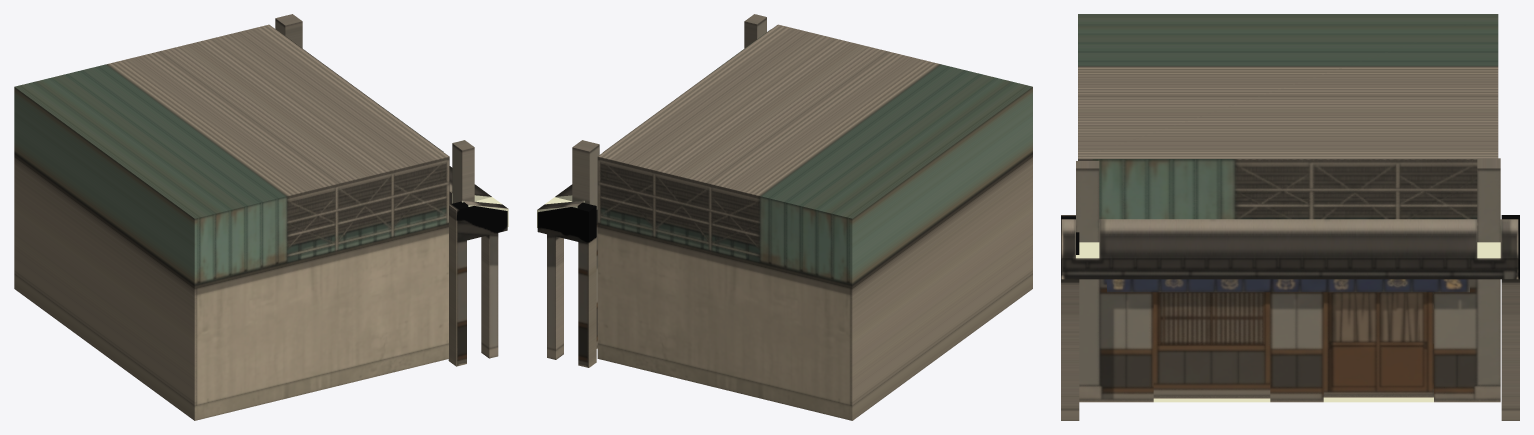
3 views of the same model, side by side, from view 1: azimuth 30°, elevation 25°; view 2: azimuth 150°, elevation 25°; view 3: azimuth 270°, elevation 25° (orthographic). The views are drawn at different scales.
Visible parts, largest first — view 1: Gemini_Generated_Image_f2cz8ef2cz8ef2cz.005, Gemini_Generated_Image_f2cz8ef2cz8ef2cz.008, Gemini_Generated_Image_f2cz8ef2cz8ef2cz.003, Gemini_Generated_Image_f2cz8ef2cz8ef2cz.001, Gemini_Generated_Image_f2cz8ef2cz8ef2cz.004; view 2: Gemini_Generated_Image_f2cz8ef2cz8ef2cz.005, Gemini_Generated_Image_f2cz8ef2cz8ef2cz.006, Gemini_Generated_Image_f2cz8ef2cz8ef2cz.004, Gemini_Generated_Image_f2cz8ef2cz8ef2cz.001, Gemini_Generated_Image_f2cz8ef2cz8ef2cz.003; view 3: Gemini_Generated_Image_f2cz8ef2cz8ef2cz.005, Gemini_Generated_Image_f2cz8ef2cz8ef2cz.001, Gemini_Generated_Image_f2cz8ef2cz8ef2cz.007, Gemini_Generated_Image_f2cz8ef2cz8ef2cz.009, Gemini_Generated_Image_f2cz8ef2cz8ef2cz.010, Gemini_Generated_Image_f2cz8ef2cz8ef2cz.008, Gemini_Generated_Image_f2cz8ef2cz8ef2cz.006, Gemini_Generated_Image_f2cz8ef2cz8ef2cz.004, Gemini_Generated_Image_f2cz8ef2cz8ef2cz.003.
Part boxes in pixels (bbox=[...]): Gemini_Generated_Image_f2cz8ef2cz8ef2cz.005: bbox=[14, 24, 449, 420]; Gemini_Generated_Image_f2cz8ef2cz8ef2cz.008: bbox=[448, 201, 507, 366]; Gemini_Generated_Image_f2cz8ef2cz8ef2cz.003: bbox=[452, 140, 474, 203]; Gemini_Generated_Image_f2cz8ef2cz8ef2cz.001: bbox=[449, 166, 508, 226]; Gemini_Generated_Image_f2cz8ef2cz8ef2cz.004: bbox=[275, 14, 302, 48]; Gemini_Generated_Image_f2cz8ef2cz8ef2cz.005: bbox=[597, 24, 1032, 420]; Gemini_Generated_Image_f2cz8ef2cz8ef2cz.006: bbox=[537, 202, 596, 367]; Gemini_Generated_Image_f2cz8ef2cz8ef2cz.004: bbox=[572, 140, 599, 209]; Gemini_Generated_Image_f2cz8ef2cz8ef2cz.001: bbox=[537, 184, 597, 348]; Gemini_Generated_Image_f2cz8ef2cz8ef2cz.003: bbox=[744, 14, 766, 48]; Gemini_Generated_Image_f2cz8ef2cz8ef2cz.005: bbox=[1078, 14, 1498, 160]; Gemini_Generated_Image_f2cz8ef2cz8ef2cz.001: bbox=[1061, 219, 1518, 402]; Gemini_Generated_Image_f2cz8ef2cz8ef2cz.007: bbox=[1092, 159, 1477, 219]; Gemini_Generated_Image_f2cz8ef2cz8ef2cz.009: bbox=[1153, 292, 1270, 398]; Gemini_Generated_Image_f2cz8ef2cz8ef2cz.010: bbox=[1323, 292, 1433, 397]; Gemini_Generated_Image_f2cz8ef2cz8ef2cz.008: bbox=[1061, 215, 1079, 420]; Gemini_Generated_Image_f2cz8ef2cz8ef2cz.006: bbox=[1501, 215, 1519, 420]; Gemini_Generated_Image_f2cz8ef2cz8ef2cz.004: bbox=[1477, 158, 1500, 242]; Gemini_Generated_Image_f2cz8ef2cz8ef2cz.003: bbox=[1076, 161, 1099, 242].
Bounding box in the file's own units: 0.6814 × 0.4426 × 0.7572.
Materials: 4 (4 with a texture image).
